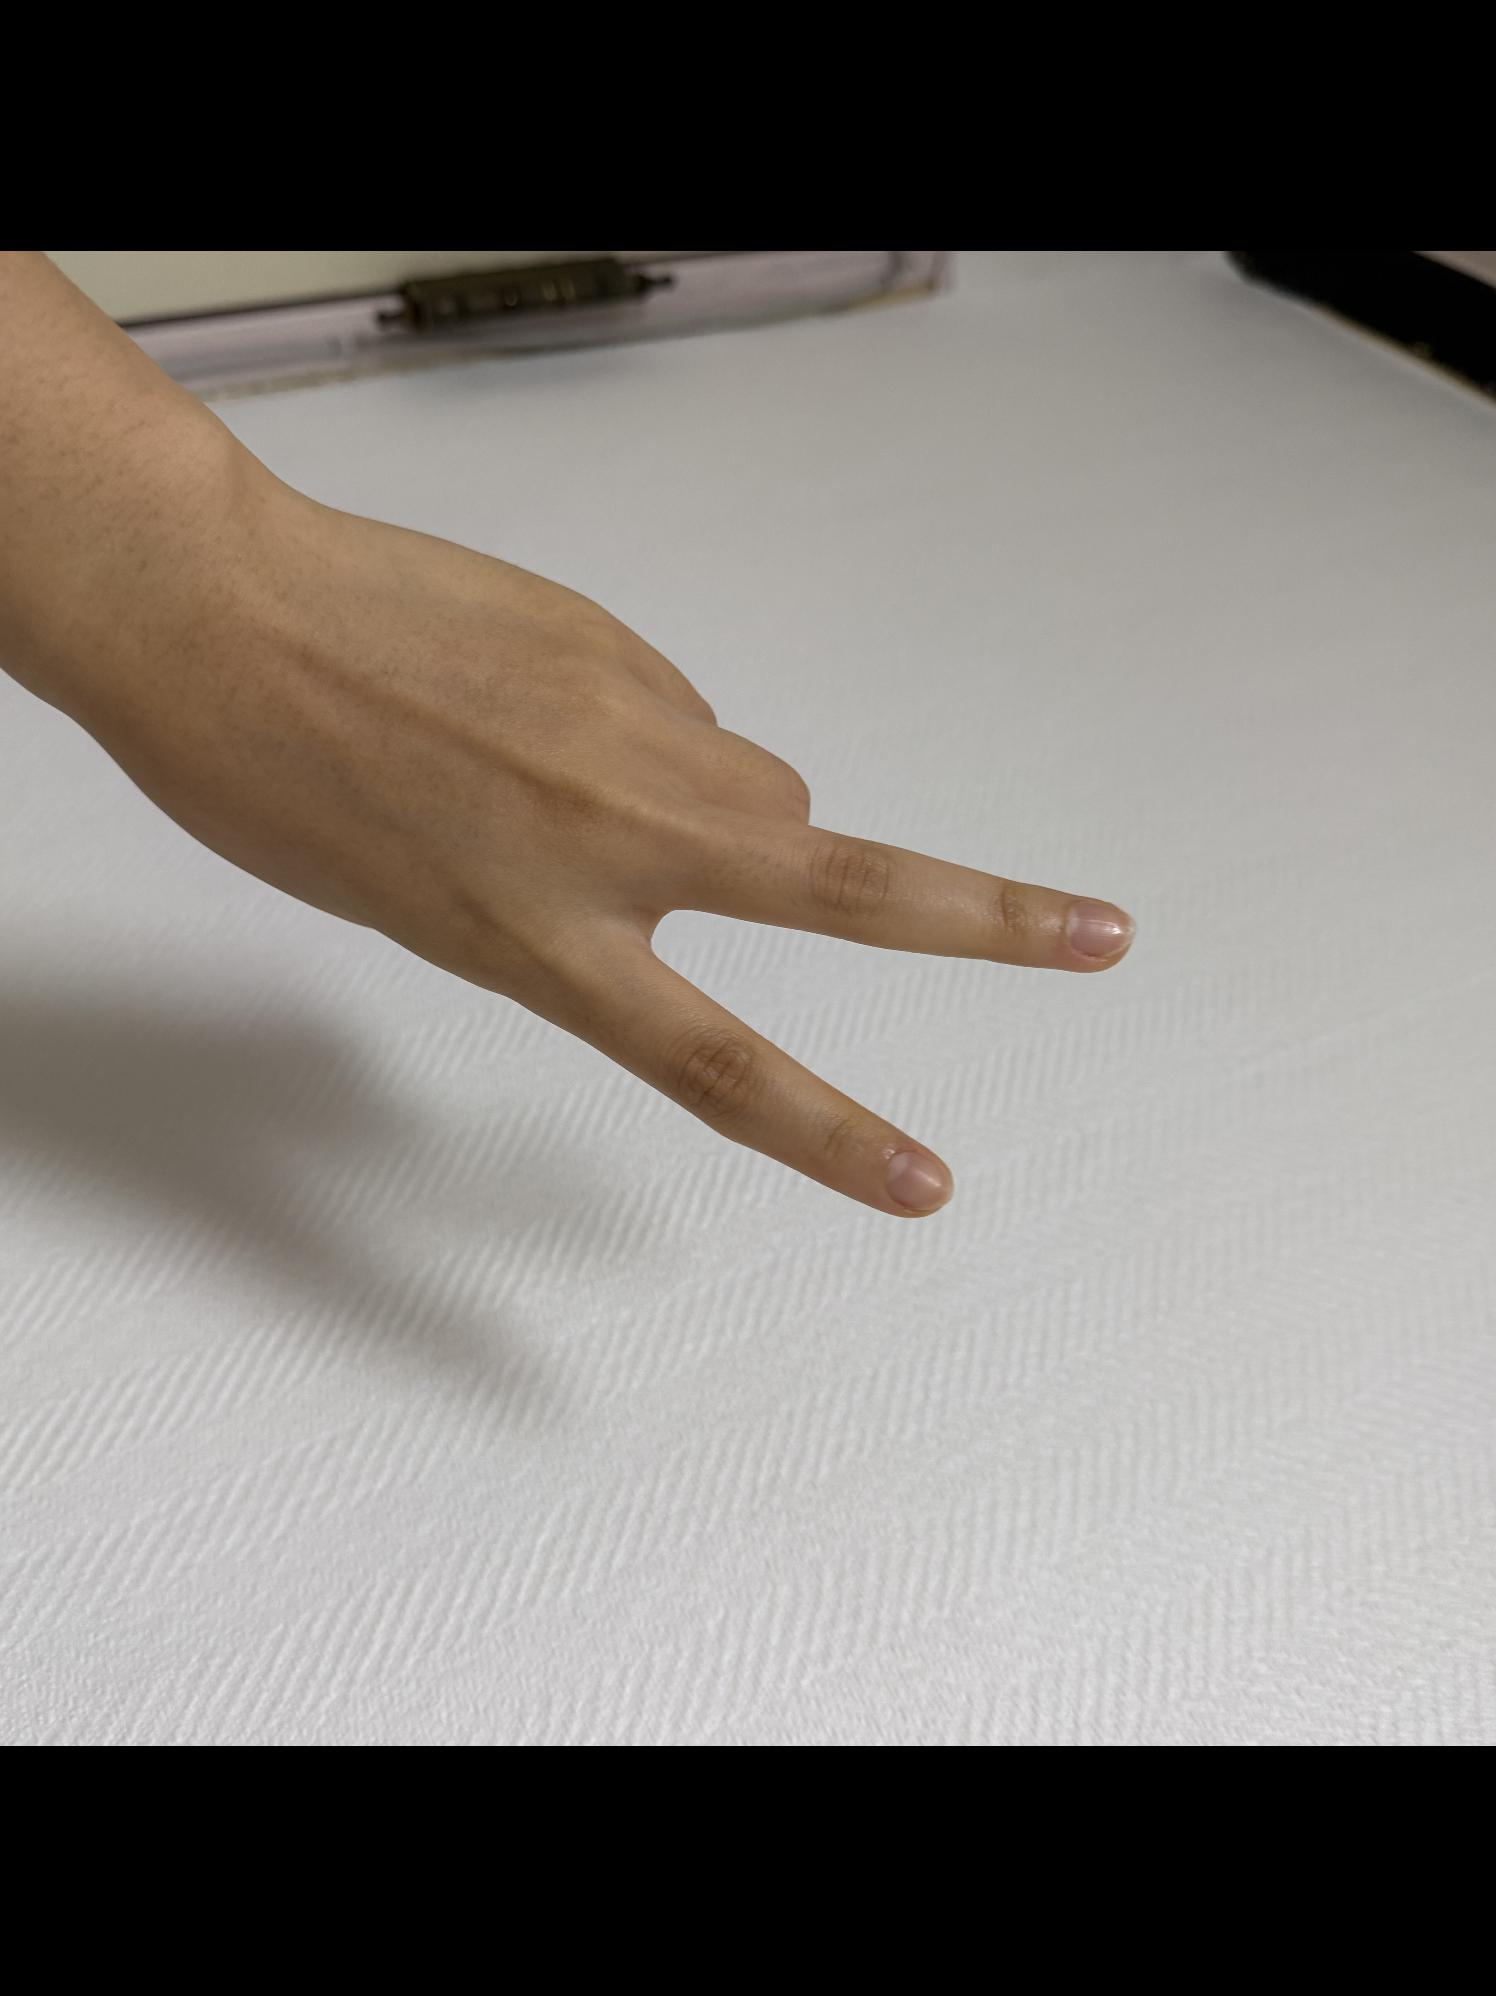v: (0, 416, 1152, 1240)
